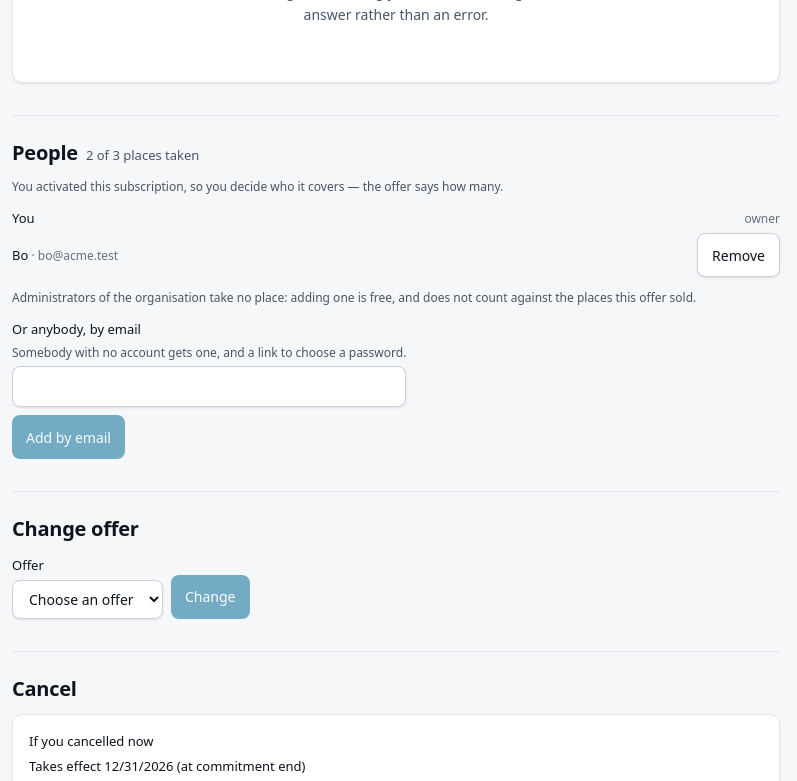
Scenario: the people a subscription covers (2026-09-19) › is shown to the owner with the quota, and adds by email, saying an account was made
The width and height of the screenshot is (797, 781).
(page scrolled)
Expected: the element with test id "subscription-people" is shown, [12, 115, 780, 459]
Expected: the text with test id "people-count" reads "2 of 3 places taken", [86, 146, 199, 164]
Type "cy@elsewhere.test" into the field labelled "Or anybody, by email".
click(209, 387); type("cy@elsewhere.test")  # box [12, 366, 406, 407]
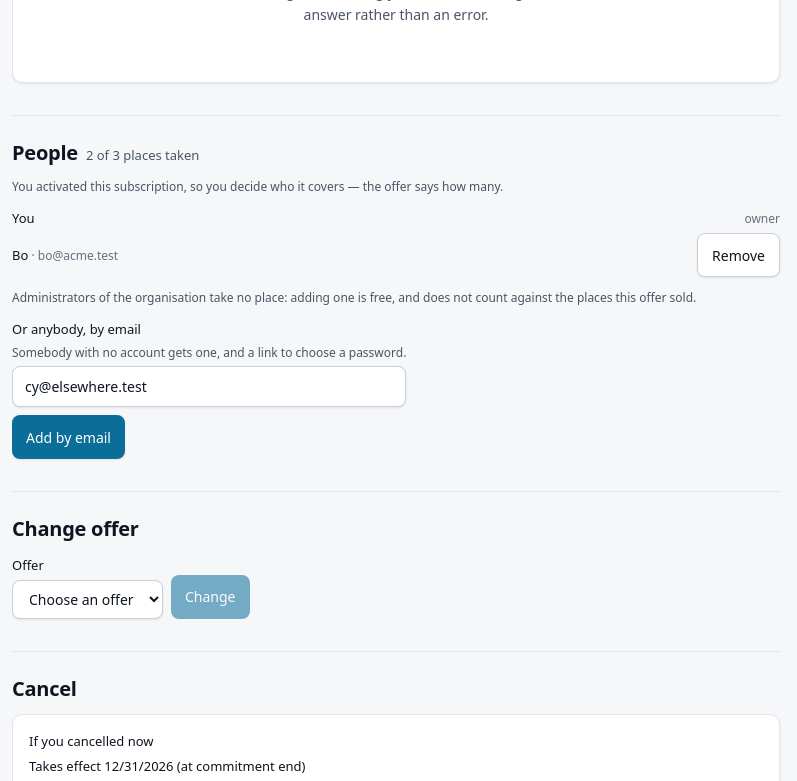
Click the button with test id "invite-person".
click(68, 437)  # box [12, 415, 125, 459]
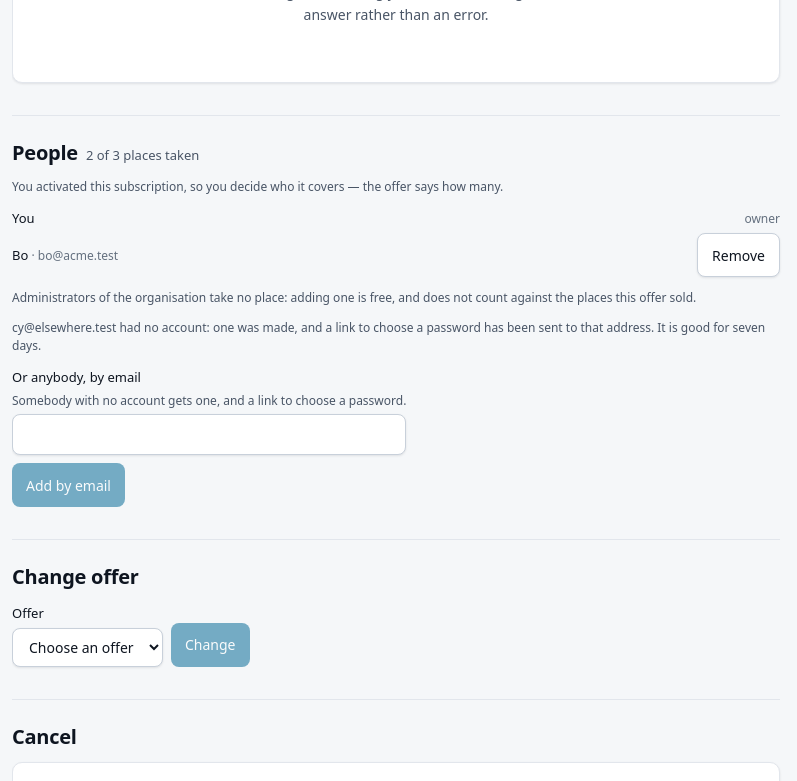
Expected: the message with test id "person-invited" is shown, [12, 319, 780, 355]
Expected: the message with test id "person-invited" shows "link to choose a password", [12, 319, 765, 354]
